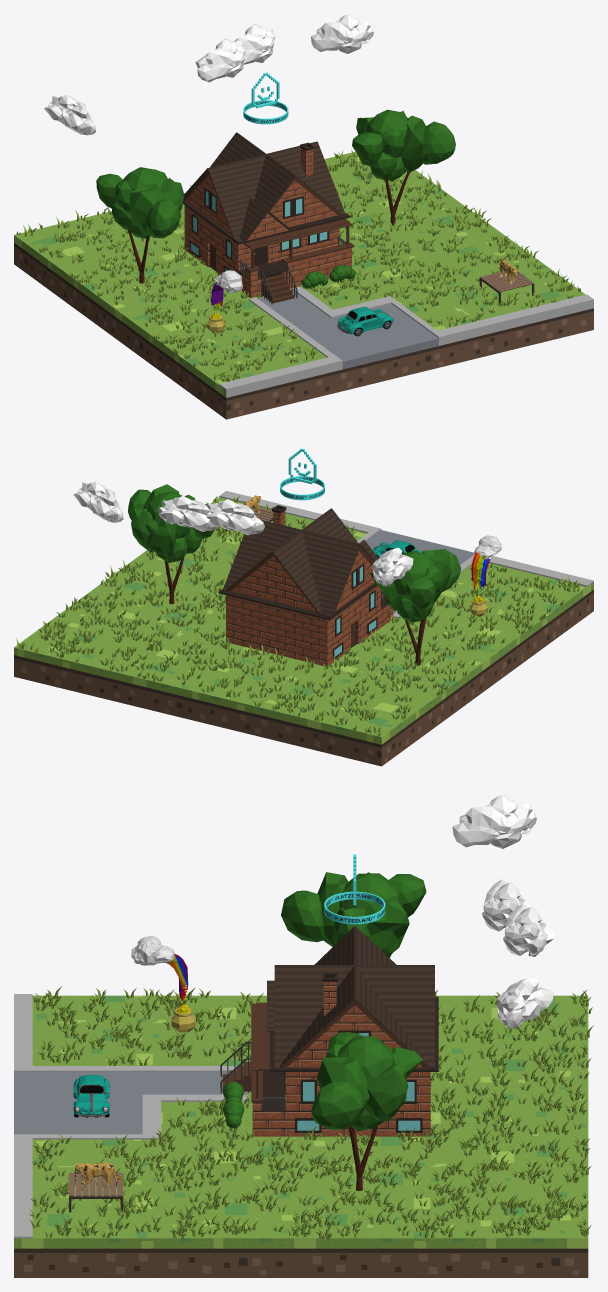
3 views of the same model, one above another, from view 1: azimuth 30°, elevation 25°; view 2: azimuth 150°, elevation 25°; view 3: azimuth 270°, elevation 25° (orthographic). The views are drawn at different scales.
Parts seen in each view (by area): view 1: Cube.006, Cube.469, Circle.012_Grass_0.192, Cube.007, tree, tree.001, VEHICLES_VOLKSWAGEN, OBJRANDOM_RAINBOW, TYPE_PREMIUM, Cube.009; view 2: Cube.006, Cube.469, Circle.012_Grass_0.192, Cube.007, tree.001, tree, OBJRANDOM_RAINBOW, TYPE_PREMIUM; view 3: Cube.006, Circle.012_Grass_0.192, Cube.469, tree, Cube.007, tree.001, OBJRANDOM_RAINBOW, VEHICLES_VOLKSWAGEN, TYPE_PREMIUM, Cube.009, ANIMAL_JAGUAR.
Part boxes in pixels (left/top/right/bottom): Cube.006: left=14, top=151, right=593, bottom=419; Cube.469: left=183, top=132, right=354, bottom=304; Circle.012_Grass_0.192: left=16, top=149, right=580, bottom=381; Cube.007: left=44, top=14, right=373, bottom=135; tree: left=352, top=109, right=455, bottom=225; tree.001: left=96, top=167, right=184, bottom=283; VEHICLES_VOLKSWAGEN: left=337, top=306, right=393, bottom=336; OBJRANDOM_RAINBOW: left=207, top=270, right=243, bottom=333; TYPE_PREMIUM: left=243, top=72, right=288, bottom=124; Cube.009: left=479, top=271, right=534, bottom=303; Cube.006: left=14, top=491, right=593, bottom=766; Cube.469: left=218, top=505, right=393, bottom=666; Circle.012_Grass_0.192: left=16, top=496, right=580, bottom=736; Cube.007: left=73, top=481, right=413, bottom=586; tree.001: left=370, top=549, right=460, bottom=665; tree: left=128, top=484, right=214, bottom=604; OBJRANDOM_RAINBOW: left=469, top=535, right=501, bottom=616; TYPE_PREMIUM: left=280, top=448, right=324, bottom=500; Cube.006: left=14, top=994, right=588, bottom=1277; Circle.012_Grass_0.192: left=29, top=986, right=593, bottom=1239; Cube.469: left=220, top=926, right=438, bottom=1136; tree: left=311, top=1032, right=422, bottom=1190; Cube.007: left=452, top=795, right=553, bottom=1029; tree.001: left=281, top=872, right=426, bottom=957; OBJRANDOM_RAINBOW: left=131, top=936, right=195, bottom=1032; VEHICLES_VOLKSWAGEN: left=73, top=1075, right=109, bottom=1117; TYPE_PREMIUM: left=324, top=854, right=385, bottom=924; Cube.009: left=69, top=1172, right=122, bottom=1212; ANIMAL_JAGUAR: left=74, top=1162, right=121, bottom=1187.
Size of the model in its own units: 4071 by 2278 by 4040.
Materials: 43 (5 with a texture image).
